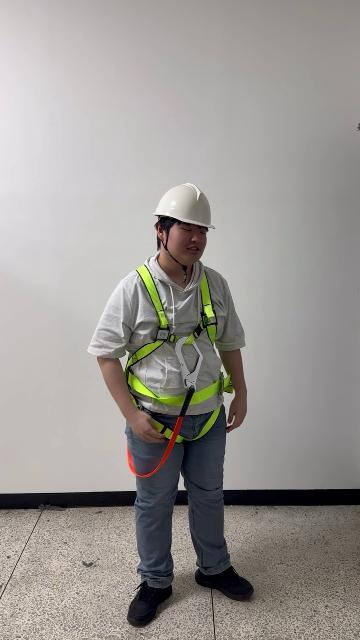helmet_worn: (153, 182, 217, 230)
shoe_not_worn: (195, 565, 254, 601), (127, 581, 172, 626)
vest_worn: (120, 262, 234, 440)
